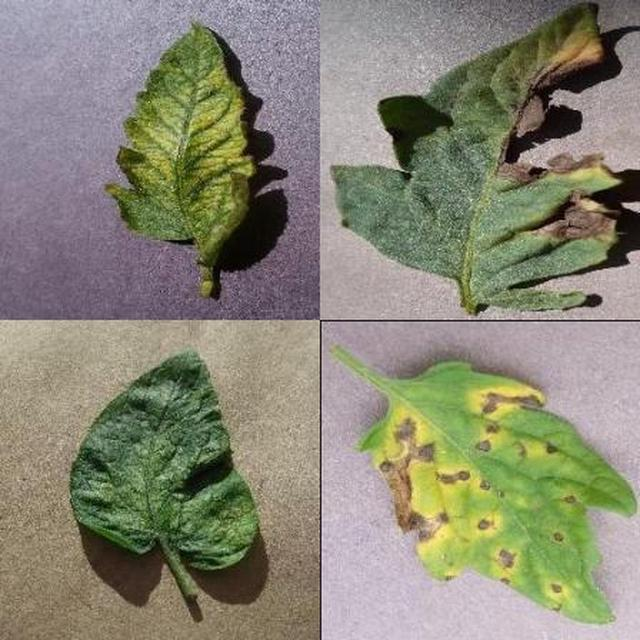Mosaic Virus Leaf: (221, 202, 640, 640)
